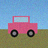vehicle: (8, 16, 37, 37)
